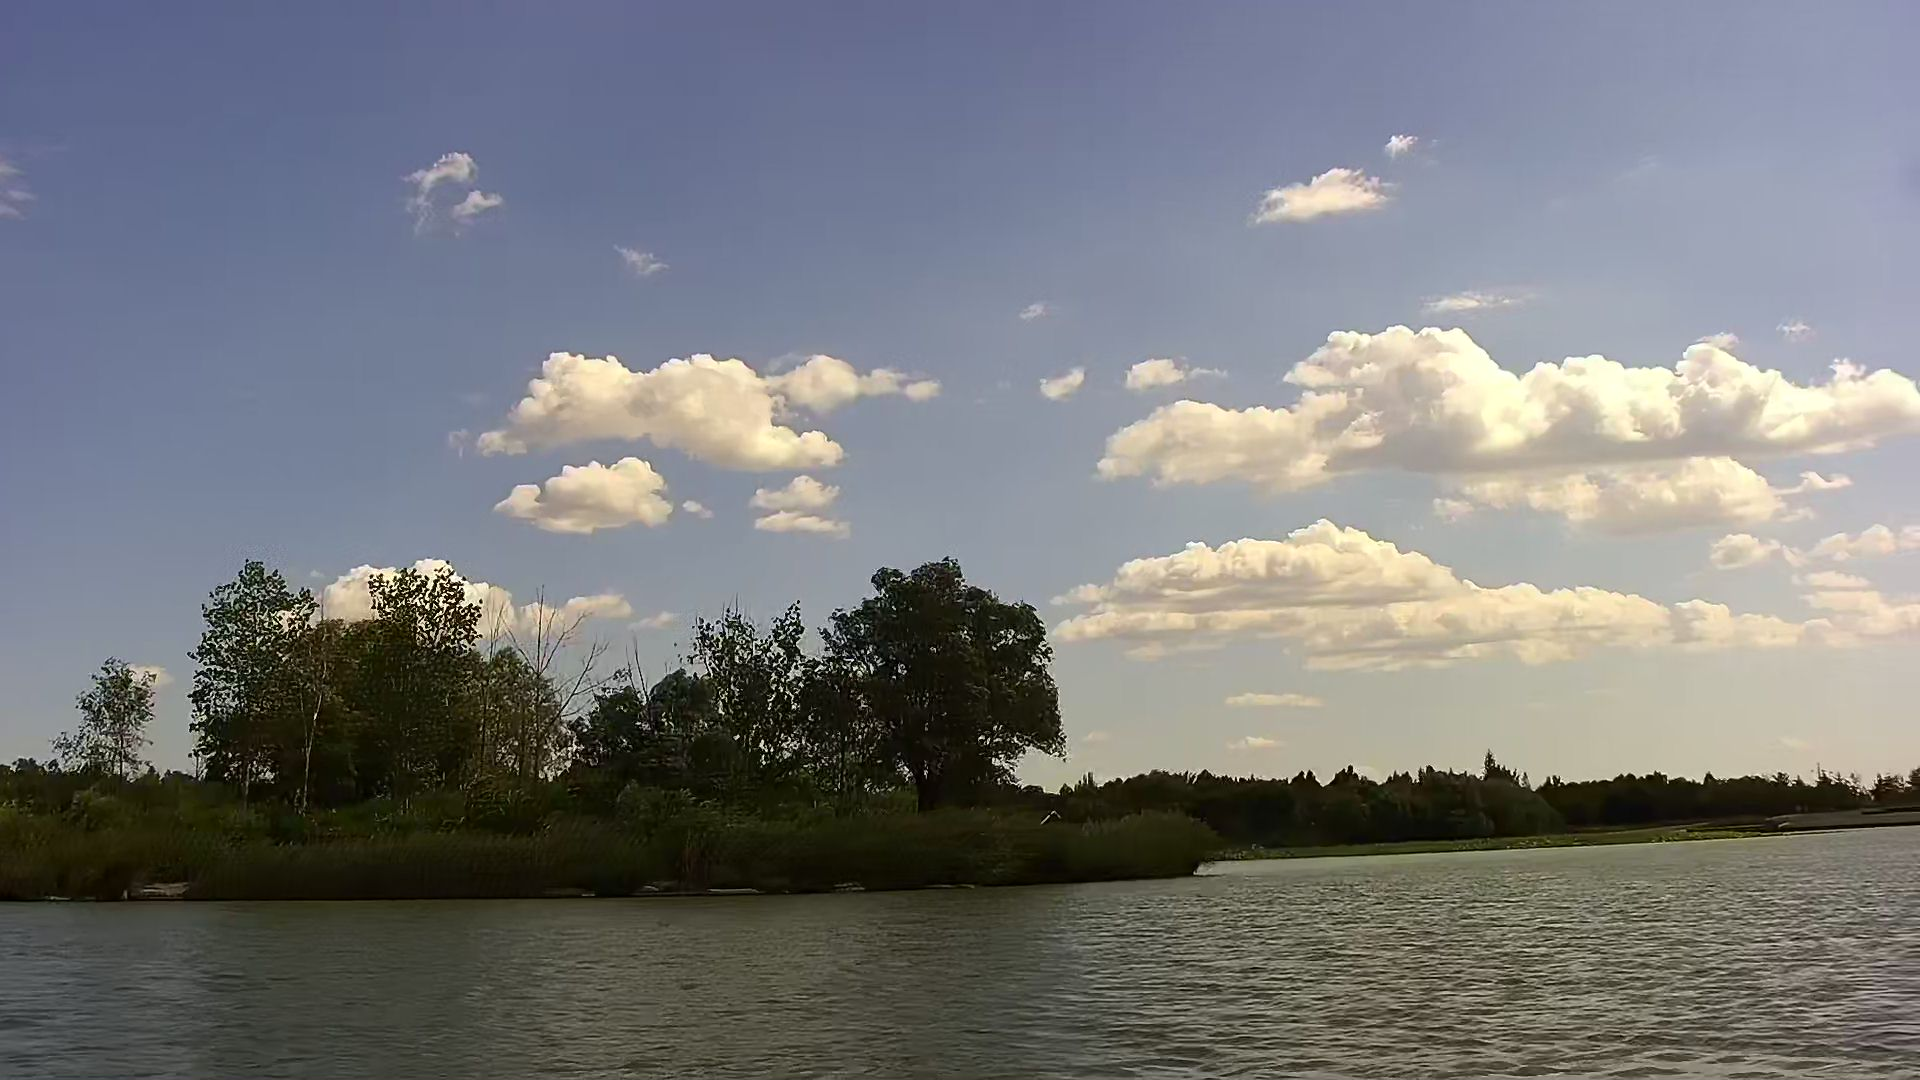rock: (129, 880, 190, 895)
